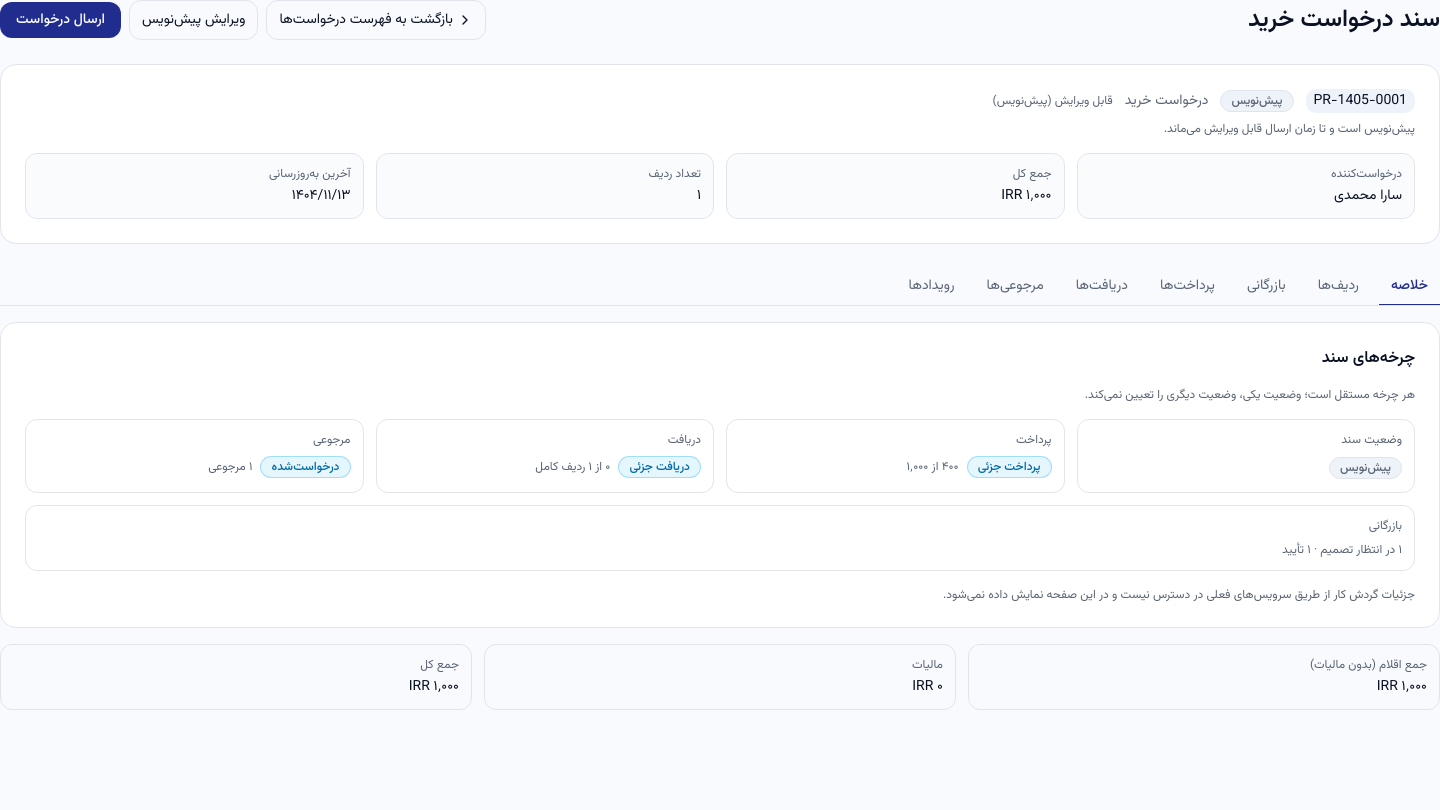
Test case: CommercePurchaseDetailView › offers submit only for a DRAFT with commerce.manage, and runs the real command
The image size is (1440, 810).
What coordinates should you click on to do the following:
click the button with test id "commerce-detail-submit"
I would click on:
 (60, 20)
Its box is [0,2,121,38].
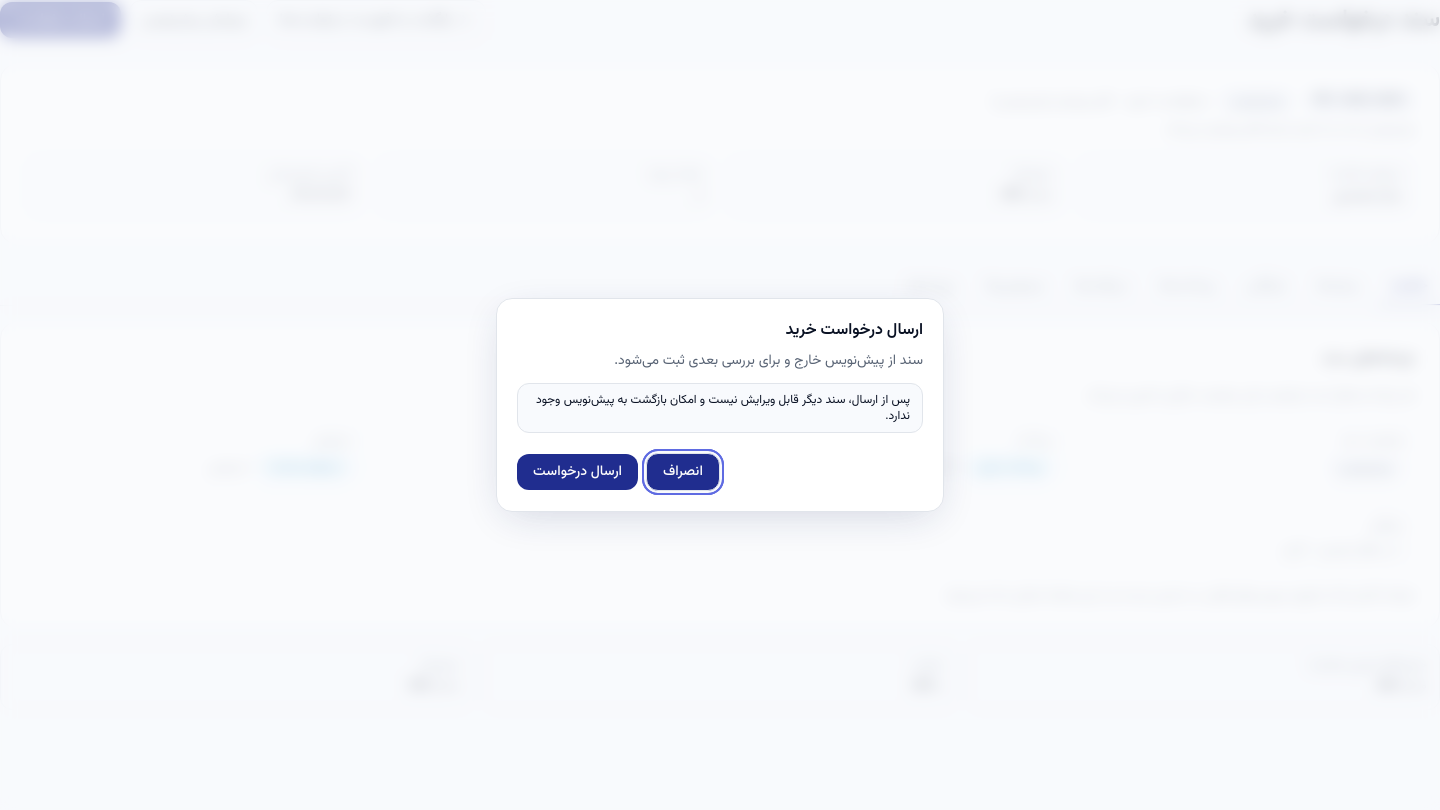
Now the text "قابل ویرایش نیست" is shown, box [536,391,910,425]
What coordinates should you click on to do the following:
click the button with test id "commerce-detail-confirm-submit-confirm"
I would click on:
 (578, 472)
Its box is [517,454,638,490].
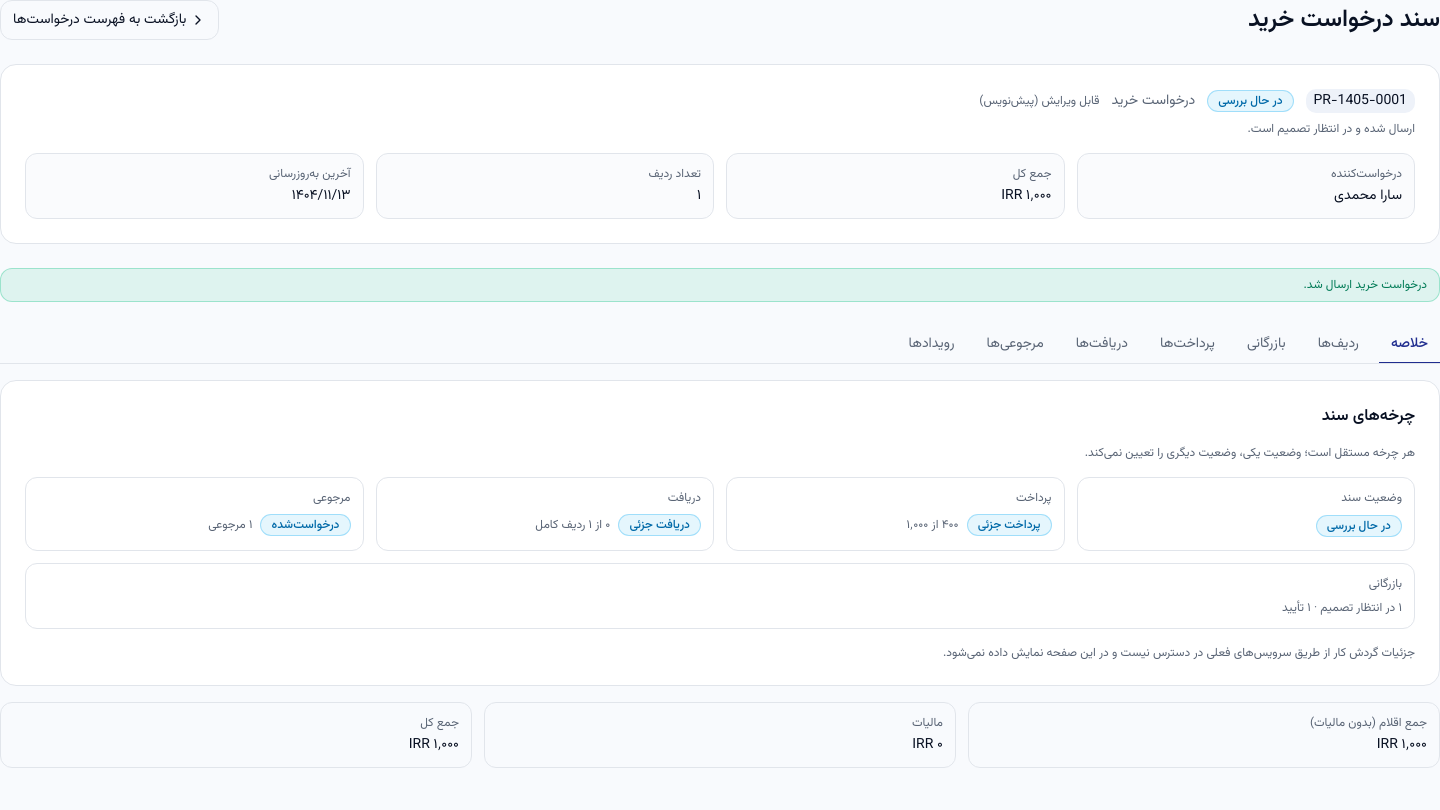
Now the message with test id "commerce-detail-feedback" shows "درخواست خرید ارسال شد", box [1304,276,1427,294]
